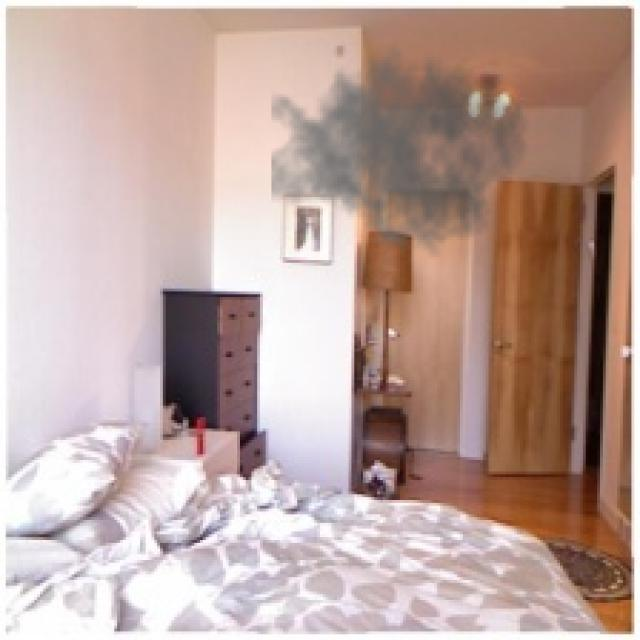smoke: (272, 31, 528, 260)
